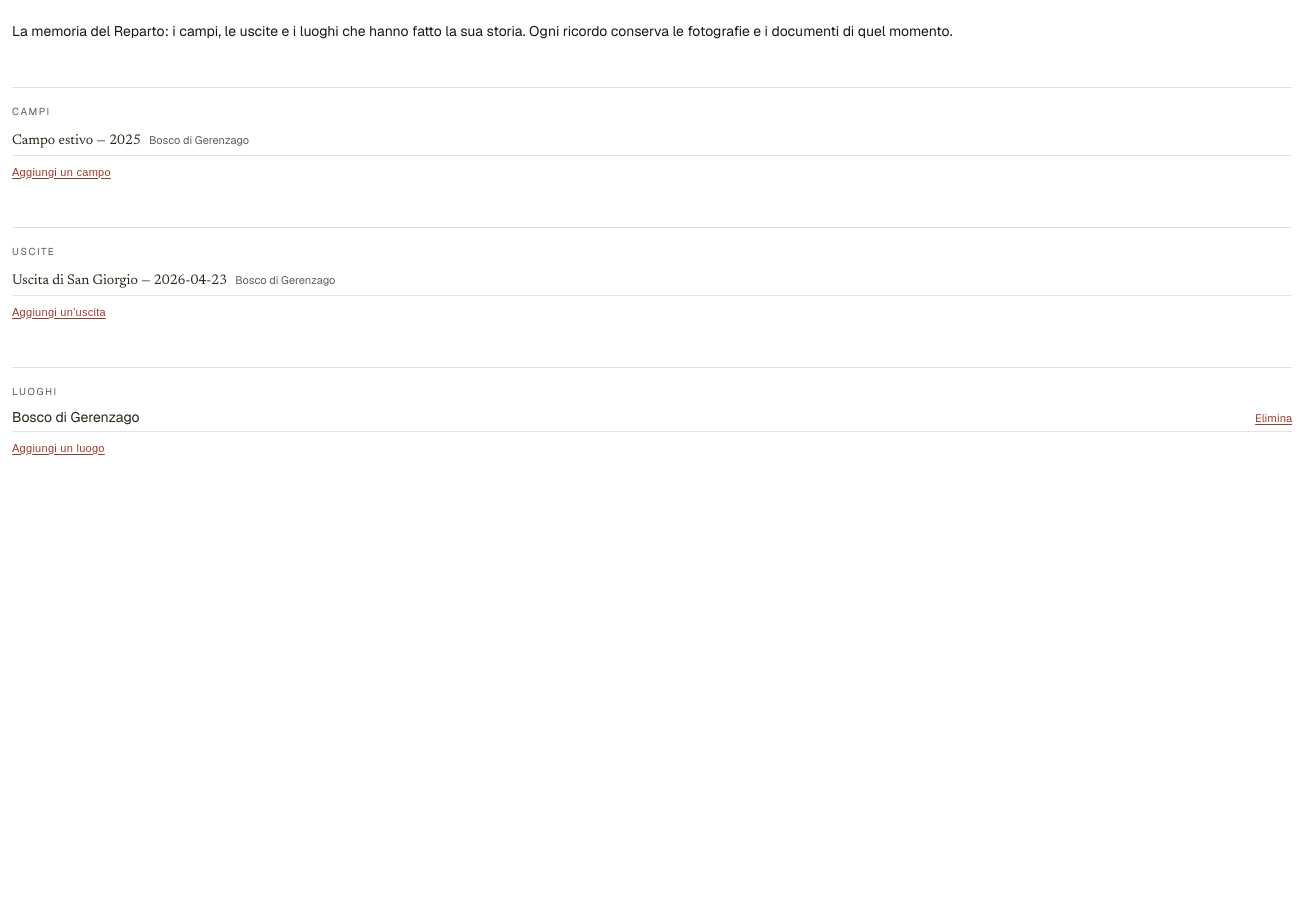
ArchivioSurface — baule dell'archivio (Fase 9) › aprire un campo mostra luogo, partecipanti e Squadriglie (P9-T03)
This screenshot has width=1304, height=900.
Click the button "Campo estivo — 2025" at (76, 141), box left=12, top=131, right=141, bottom=151
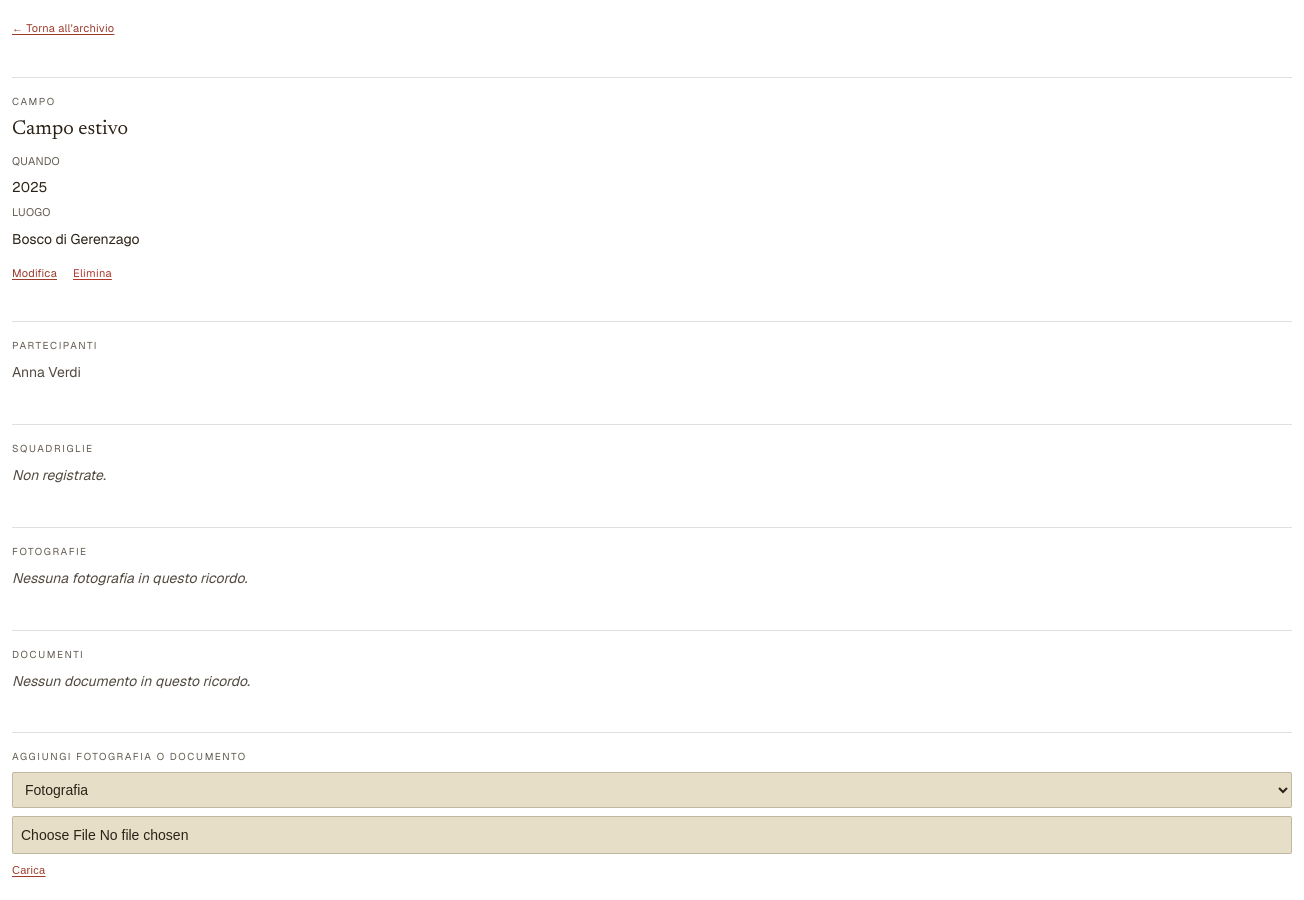
Expected: the text "Anna Verdi" is shown, left=12, top=363, right=81, bottom=381
Expected: the heading "Partecipanti" is shown, left=12, top=339, right=98, bottom=352
Expected: the heading "Squadriglie" is shown, left=12, top=442, right=94, bottom=455
